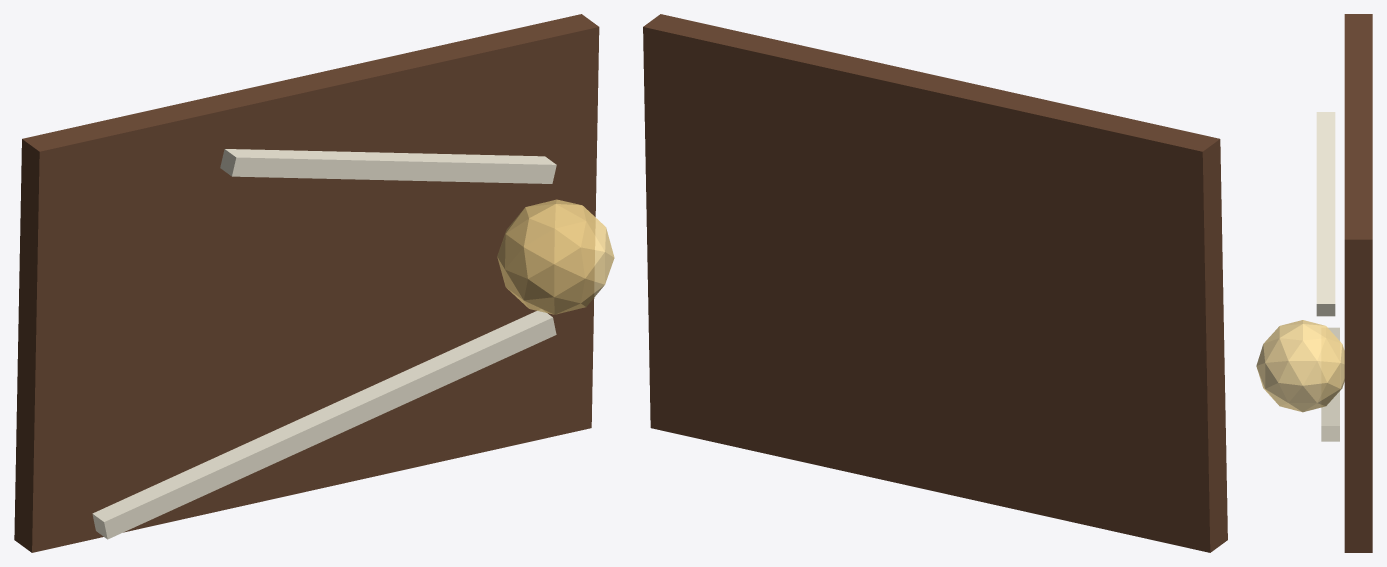
File: 02_world_prop_polish.glb
3 renders of one model, left to right at view 1: azimuth 30°, elevation 25°; view 2: azimuth 150°, elevation 25°; view 3: azimuth 270°, elevation 25°, orthographic. The views are drawn at different scales.
Visible parts, largest first — view 1: object_overlay_plate, edge_wear_a, glow_socket, edge_wear_b; view 2: object_overlay_plate; view 3: object_overlay_plate, glow_socket, edge_wear_b, edge_wear_a.
Part boxes in pixels (x1,y1,x2,y2): object_overlay_plate: (14, 14, 599, 552); edge_wear_a: (92, 310, 556, 539); glow_socket: (497, 199, 614, 314); edge_wear_b: (220, 149, 556, 183); object_overlay_plate: (643, 14, 1227, 552); object_overlay_plate: (1344, 14, 1372, 552); glow_socket: (1256, 320, 1344, 412); edge_wear_b: (1316, 112, 1335, 316); edge_wear_a: (1321, 327, 1339, 441).
Bounding box in the file's own units: 1.11 × 0.7718 × 0.25.
